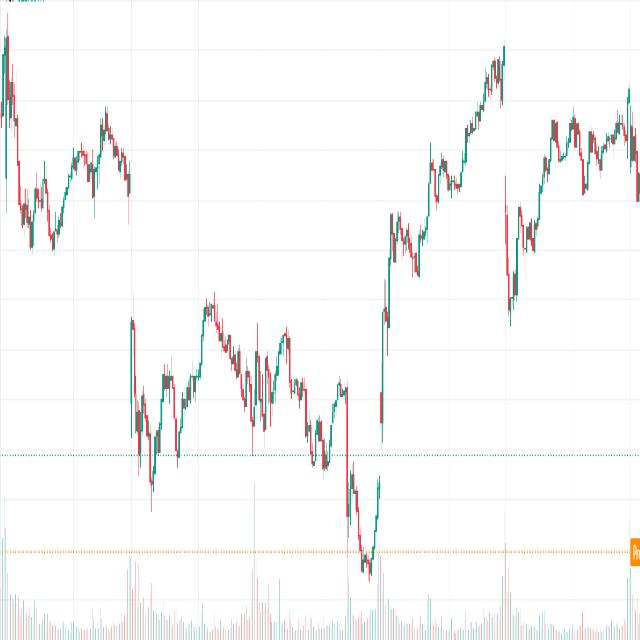Ascending-Triangle: (131, 369, 219, 572), (499, 197, 553, 357)
Double-Bottom: (305, 401, 336, 483)
Double-Top: (31, 157, 53, 244)
Triangle: (427, 126, 467, 232), (387, 190, 421, 283)
